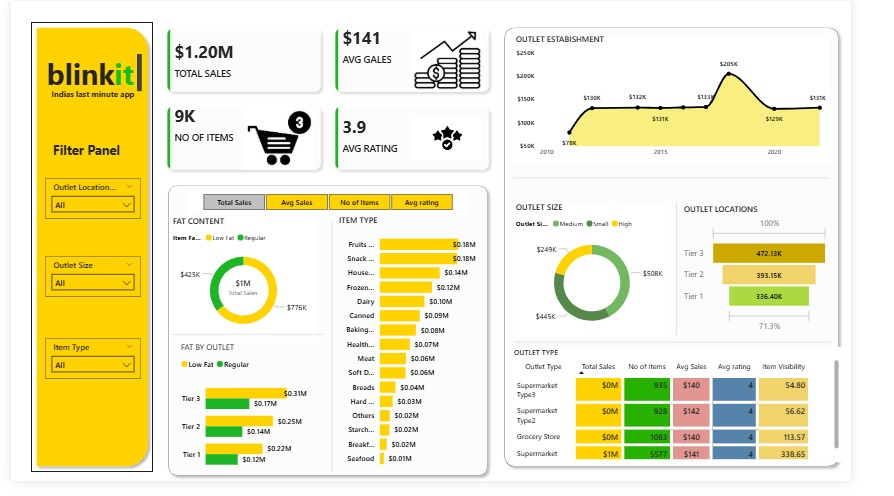

The dashboard page shown, as its layout file describes it:
{"tool":"powerbi","page":{"name":"Page 1","canvas":[1400,800],"ordinal":0},"visuals":[{"type":"shape","box":[32.9,35.7,204.3,750],"z":0},{"type":"textbox","box":[284.8,635.7,205.8,152.5],"z":1000},{"type":"textbox","box":[49.6,82.7,172.7,73.5],"z":2000},{"type":"textbox","box":[50,141.7,173.3,38.3],"z":3000},{"type":"cardVisual","fields":{"Data":["BlinkIT Grocery Data.Total Sales","BlinkIT Grocery Data.Avg Sales","BlinkIT Grocery Data.No of Items","BlinkIT Grocery Data.Avg rating"]},"box":[243.3,28.3,570,270],"z":4000},{"type":"shape","box":[253.3,298.3,550,501.7],"z":5000},{"type":"donutChart","title":"FAT CONTENT","fields":{"Y":["BlinkIT Grocery Data.Total Sales"],"Category":["BlinkIT Grocery Data.Item Fat Content"]},"box":[265,358.3,245,203.3],"z":6000},{"type":"slicer","fields":{"Values":["Metrics .Metrics "]},"box":[295,315,465,40],"z":7000},{"type":"cardVisual","fields":{"Data":["BlinkIT Grocery Data.Total Sales"]},"box":[338.6,442.9,97.1,68.6],"z":8000},{"type":"clusteredBarChart","title":"FAT BY OUTLET","fields":{"Y":["BlinkIT Grocery Data.Total Sales"],"Category":["BlinkIT Grocery Data.Outlet Location Type"],"Series":["BlinkIT Grocery Data.Item Fat Content"]},"box":[278.3,568.3,220,230],"z":9000},{"type":"shape","box":[268.3,550,253.3,11.7],"z":10000},{"type":"shape","box":[528.3,366.7,13.3,420],"z":11000},{"type":"barChart","title":"ITEM TYPE","fields":{"Y":["BlinkIT Grocery Data.Total Sales"],"Category":["BlinkIT Grocery Data.Item Type"]},"box":[541.7,356.7,238.3,430],"z":12000},{"type":"shape","box":[813.3,35,575,750],"z":13000},{"type":"lineChart","title":"OUTLET ESTABISHMENT","fields":{"Y":["BlinkIT Grocery Data.Total Sales"],"Category":["BlinkIT Grocery Data.Outlet Establishment Year"]},"box":[836.7,55,528.3,215],"z":14000},{"type":"shape","box":[836.7,291.7,528.3,6.7],"z":15000},{"type":"donutChart","title":"OUTLET SIZE","fields":{"Y":["BlinkIT Grocery Data.Total Sales"],"Category":["BlinkIT Grocery Data.Outlet Size"]},"box":[836.7,335,263,225],"z":16000},{"type":"shape","box":[1101.7,335,15,221.7],"z":17000},{"type":"funnel","title":"OUTLET LOCATIONS","fields":{"Y":["Sum(BlinkIT Grocery Data.Sales)"],"Category":["BlinkIT Grocery Data.Outlet Location Type"]},"box":[1116.7,338.3,250,218.3],"z":18000},{"type":"shape","box":[838.3,565,528.3,6.7],"z":19000},{"type":"pivotTable","title":"OUTLET TYPE","fields":{"Rows":["BlinkIT Grocery Data.Outlet Type"],"Values":["BlinkIT Grocery Data.Total Sales","BlinkIT Grocery Data.No of Items","BlinkIT Grocery Data.Avg Sales","BlinkIT Grocery Data.Avg rating","Sum(BlinkIT Grocery Data.Item Visibility)"]},"box":[833.3,576.7,551.7,191.7],"z":20000},{"type":"slicer","fields":{"Values":["BlinkIT Grocery Data.Outlet Location Type"]},"box":[56.7,295,160,68.3],"z":21000},{"type":"slicer","fields":{"Values":["BlinkIT Grocery Data.Outlet Size"]},"box":[56.7,425,160,68.3],"z":22000},{"type":"slicer","fields":{"Values":["BlinkIT Grocery Data.Item Type"]},"box":[56.7,561.7,160,68.3],"z":23000},{"type":"textbox","box":[65,228.3,138.3,41.7],"z":24000}]}

Visuals, with their boxes in screenshot pixels (x1, y1, x2, y2), scaled from the page's 1400x800 canvas onto the 894x496 screenshot:
shape: <bbox>21, 22, 151, 487</bbox>
textbox: <bbox>182, 394, 313, 489</bbox>
textbox: <bbox>32, 51, 142, 97</bbox>
textbox: <bbox>32, 88, 143, 112</bbox>
cardVisual - BlinkIT Grocery Data.Total Sales x BlinkIT Grocery Data.Avg Sales: <bbox>155, 18, 519, 185</bbox>
shape: <bbox>162, 185, 513, 495</bbox>
"FAT CONTENT" donutChart: <bbox>169, 222, 326, 348</bbox>
slicer - Metrics .Metrics : <bbox>188, 195, 485, 220</bbox>
cardVisual - BlinkIT Grocery Data.Total Sales: <bbox>216, 275, 278, 317</bbox>
"FAT BY OUTLET" clusteredBarChart: <bbox>178, 352, 318, 495</bbox>
shape: <bbox>171, 341, 333, 348</bbox>
shape: <bbox>337, 227, 346, 488</bbox>
"ITEM TYPE" barChart: <bbox>346, 221, 498, 488</bbox>
shape: <bbox>519, 22, 887, 487</bbox>
"OUTLET ESTABISHMENT" lineChart: <bbox>534, 34, 872, 167</bbox>
shape: <bbox>534, 181, 872, 185</bbox>
"OUTLET SIZE" donutChart: <bbox>534, 208, 702, 347</bbox>
shape: <bbox>704, 208, 713, 345</bbox>
"OUTLET LOCATIONS" funnel: <bbox>713, 210, 873, 345</bbox>
shape: <bbox>535, 350, 873, 354</bbox>
"OUTLET TYPE" pivotTable: <bbox>532, 358, 884, 476</bbox>
slicer - BlinkIT Grocery Data.Outlet Location Type: <bbox>36, 183, 138, 225</bbox>
slicer - BlinkIT Grocery Data.Outlet Size: <bbox>36, 264, 138, 306</bbox>
slicer - BlinkIT Grocery Data.Item Type: <bbox>36, 348, 138, 391</bbox>
textbox: <bbox>42, 142, 130, 167</bbox>
